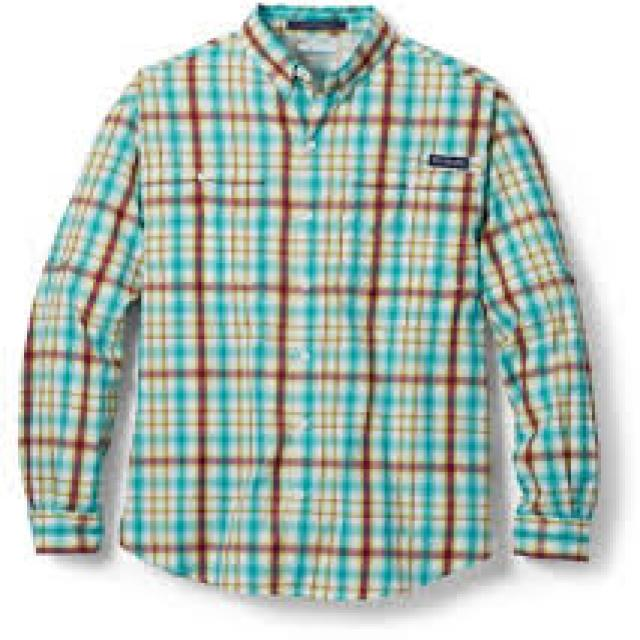plaid: (16, 7, 607, 601)
